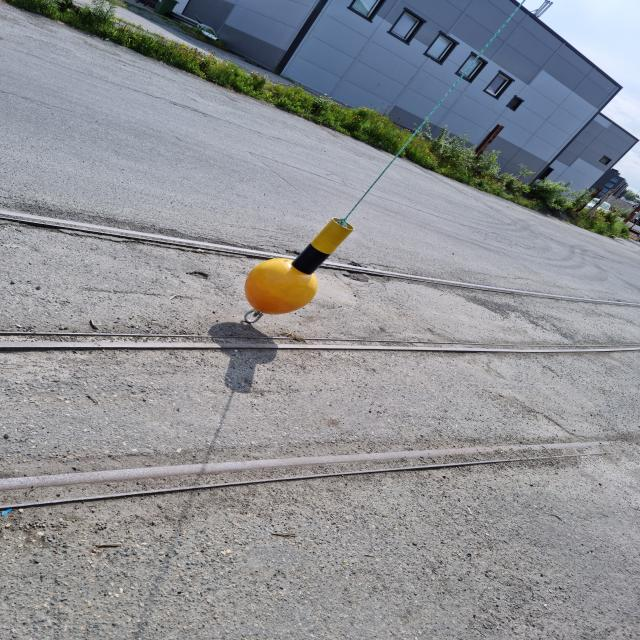west: (243, 217, 354, 315)
